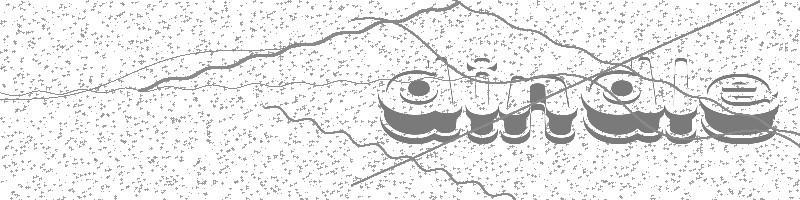d: (377, 55, 463, 145), (580, 56, 664, 145)
e: (700, 72, 779, 145)
i: (465, 56, 500, 145)
l: (664, 56, 699, 145)
n: (500, 74, 579, 145)
